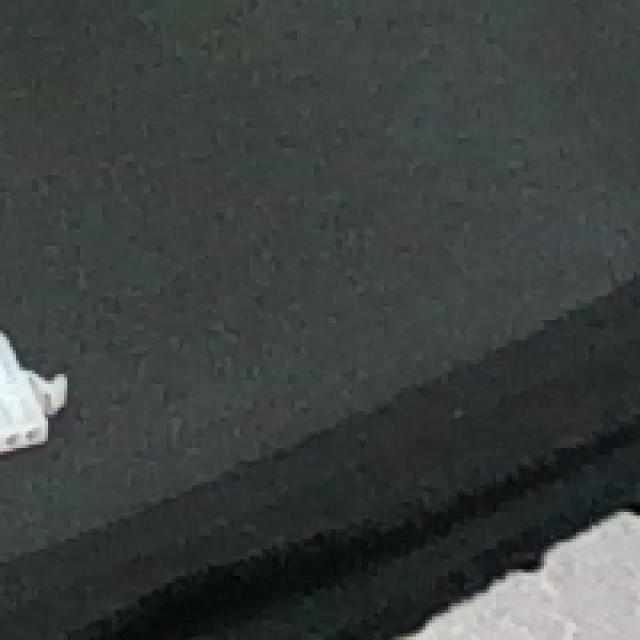pick: (0, 306, 86, 478)
